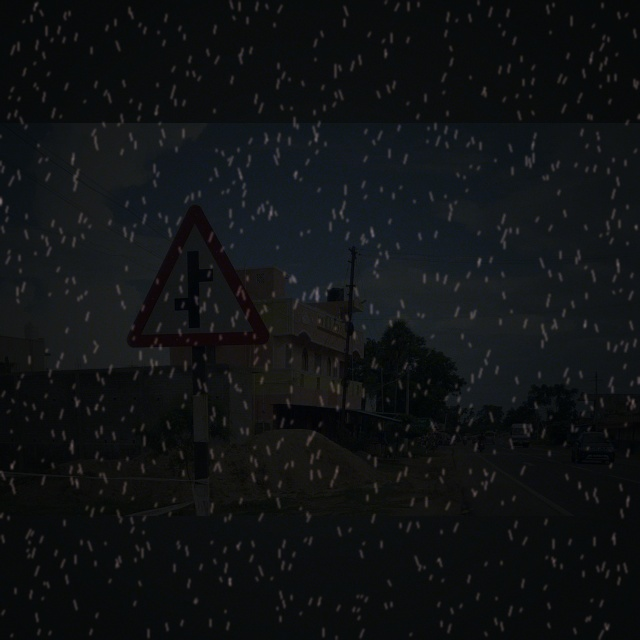Staggered_Intersection: (114, 201, 278, 351)
